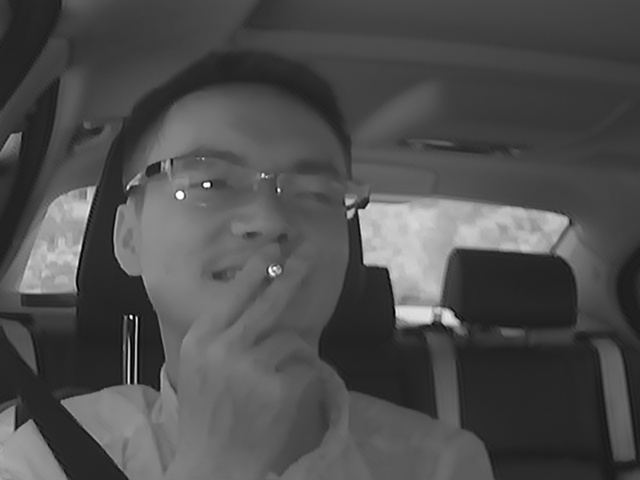hand: (180, 246, 324, 418)
